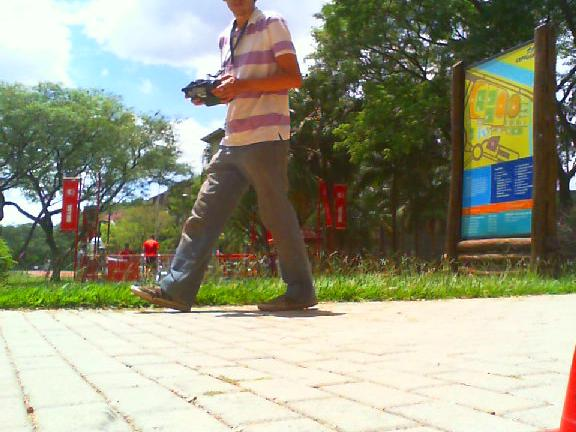0 cone: (530, 218, 576, 432)
